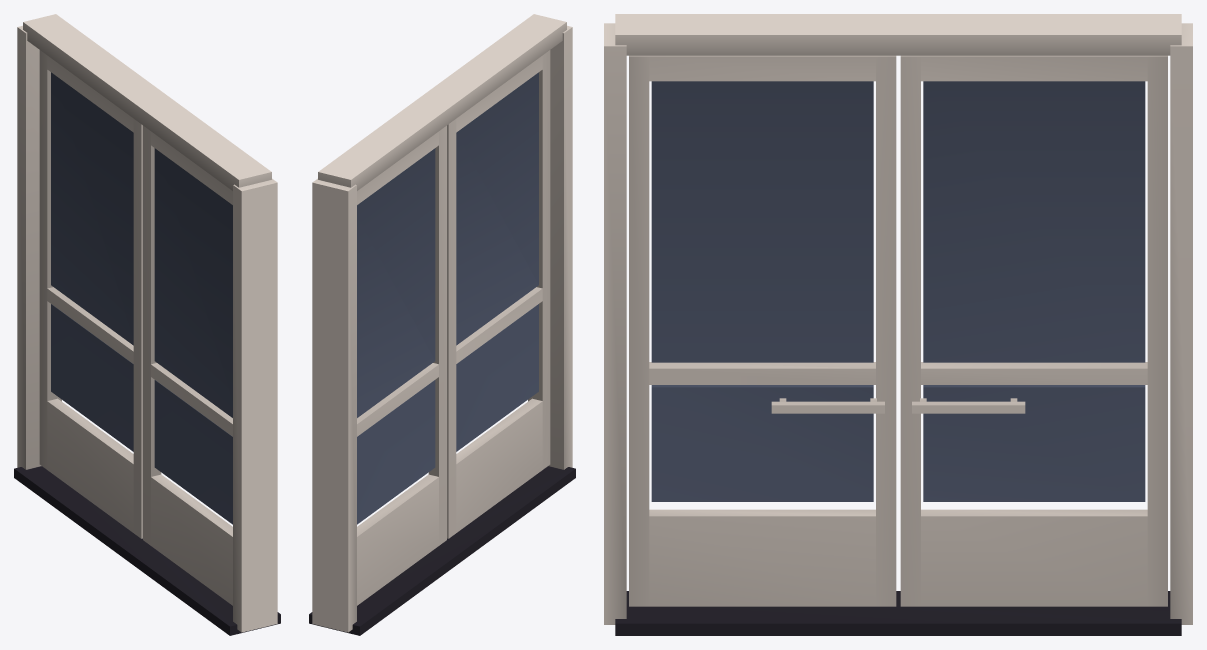
Rendered from kit.market-doors.glb.
3 views of the same model, side by side, from view 1: azimuth 30°, elevation 25°; view 2: azimuth 150°, elevation 25°; view 3: azimuth 270°, elevation 25° (orthographic). The views are drawn at different scales.
Parts seen in each view (by area): view 1: body, marketLeafL, marketLeafR; view 2: body, marketLeafR, marketLeafL; view 3: marketLeafL, marketLeafR, body.
Part boxes in pixels (x1,y1,x2,y2): body: (14,14,280,635); marketLeafL: (39,50,142,538); marketLeafR: (143,125,232,605); body: (309,14,575,635); marketLeafR: (447,50,550,538); marketLeafL: (357,125,446,605); marketLeafL: (900,55,1167,606); marketLeafR: (629,55,896,606); body: (604,14,1192,635).
Size of the model in its own units: 0.34 by 2.9 by 2.6.
